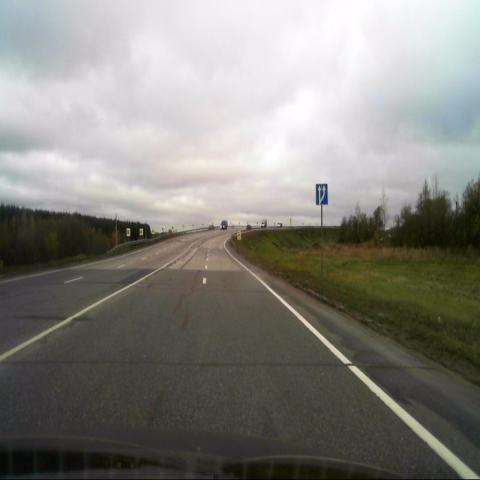5_15_3: (316, 183, 328, 204)
